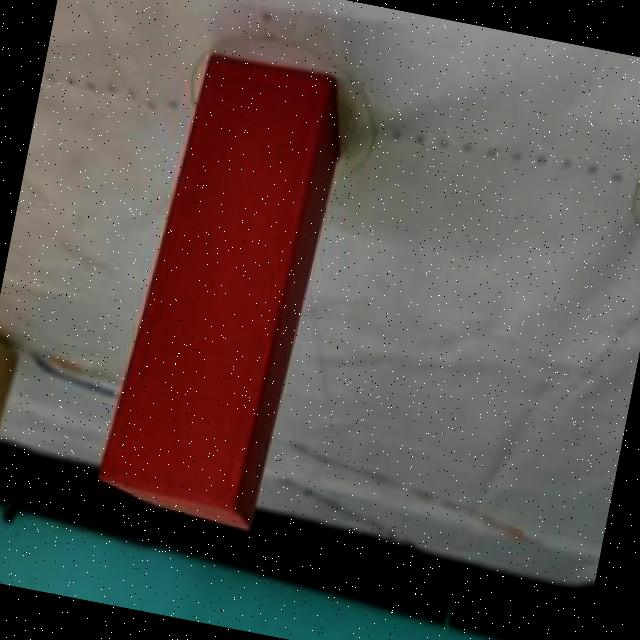redbox: (94, 47, 351, 534)
